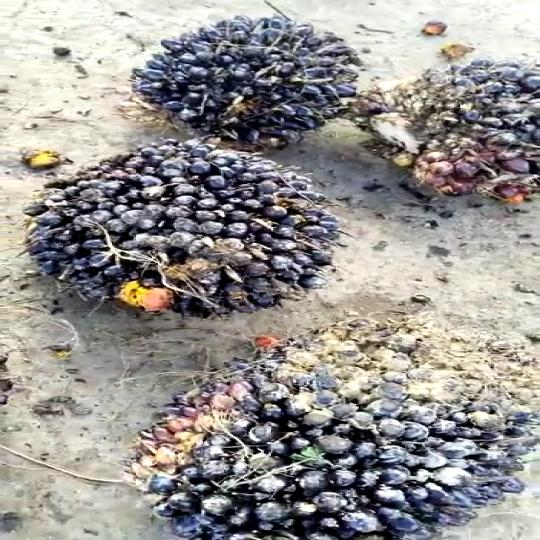mentah: (130, 338, 540, 540), (26, 132, 327, 342), (350, 56, 535, 234), (124, 13, 360, 138)
